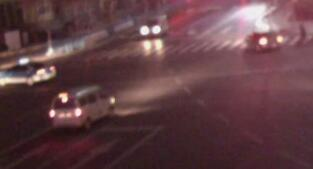car: (47, 85, 116, 130), (1, 58, 56, 85), (244, 30, 285, 50), (138, 14, 169, 35)
